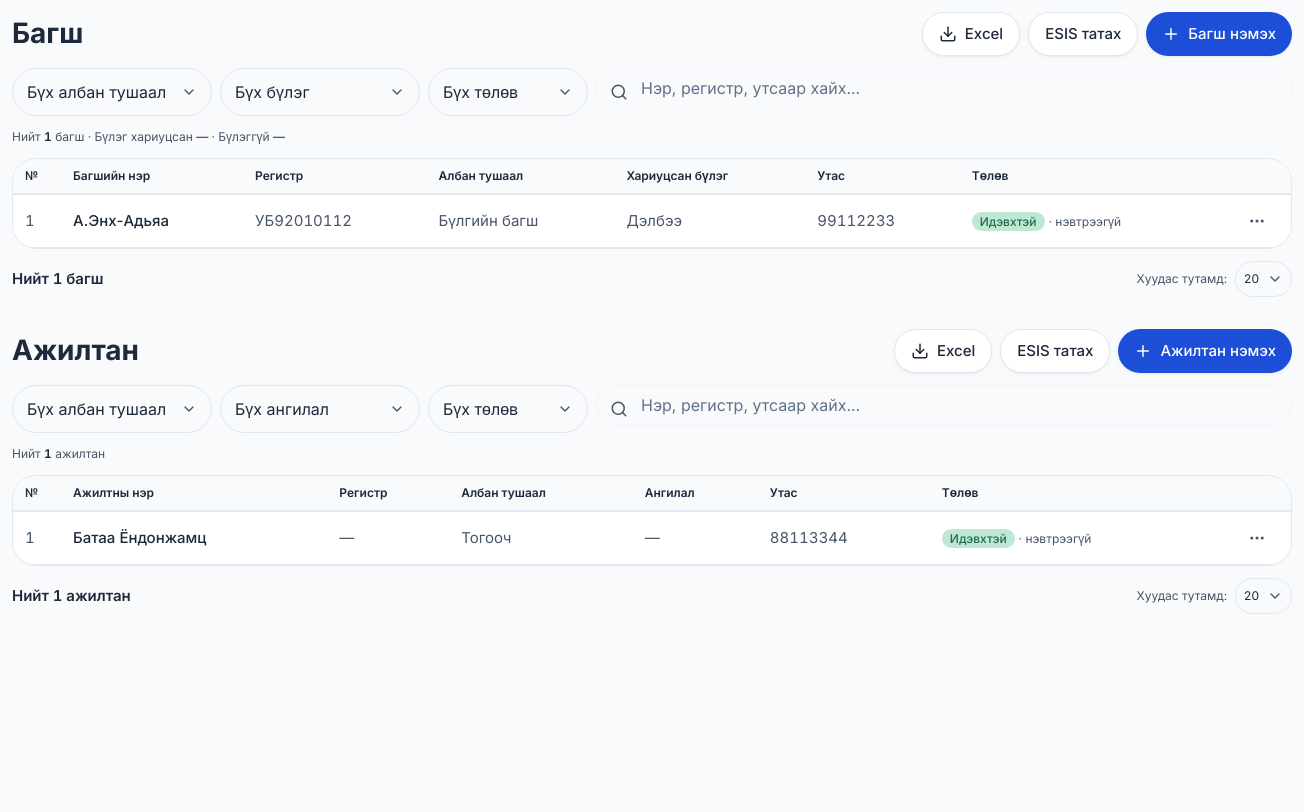
it: the staff directory › offers only the actions that exist
The width and height of the screenshot is (1304, 812).
Step 1. Click the button named "Анхбаяр Энх-Адьяа — үйлдэл" → (1257, 221), box x1=1235 y1=199 x2=1279 y2=243
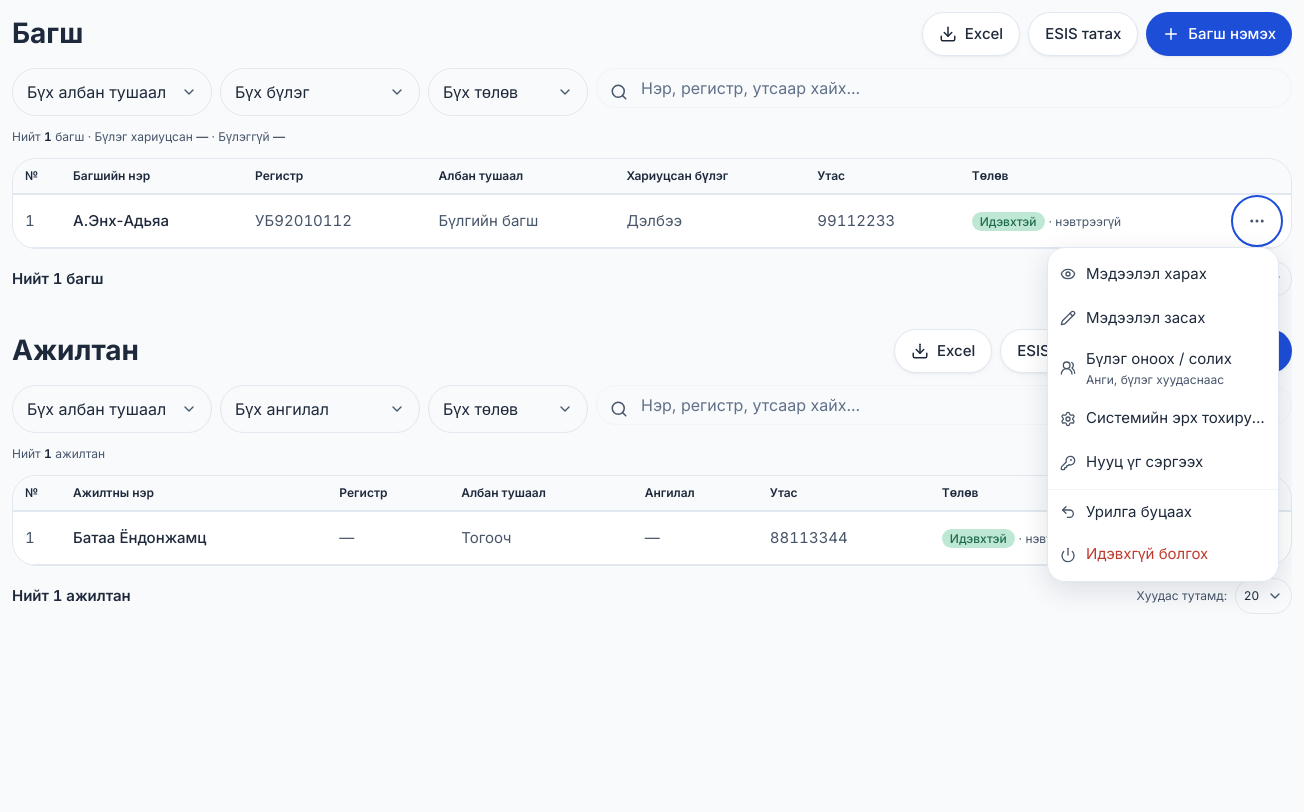
Check: the menu item "Мэдээлэл харах" is shown, box x1=1048 y1=252 x2=1278 y2=296
Check: the menu item "Мэдээлэл засах" is shown, box x1=1048 y1=296 x2=1278 y2=340
Check: the menu item "Системийн эрх тохируулах" is shown, box x1=1048 y1=396 x2=1278 y2=440
